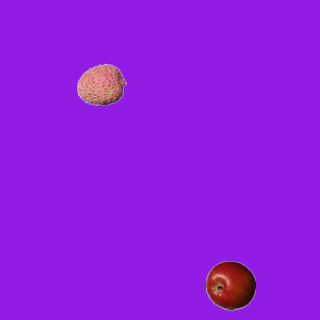Apple Braeburn: (205, 260, 255, 310)
Lychee: (76, 59, 126, 109)
